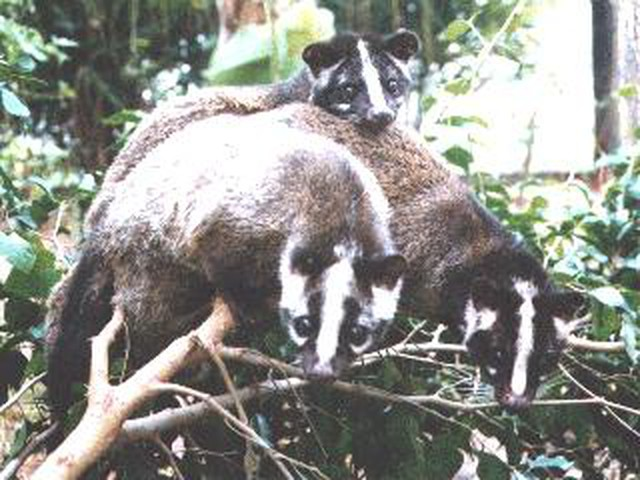civet: (102, 121, 408, 396), (407, 127, 592, 432), (157, 23, 456, 131)
